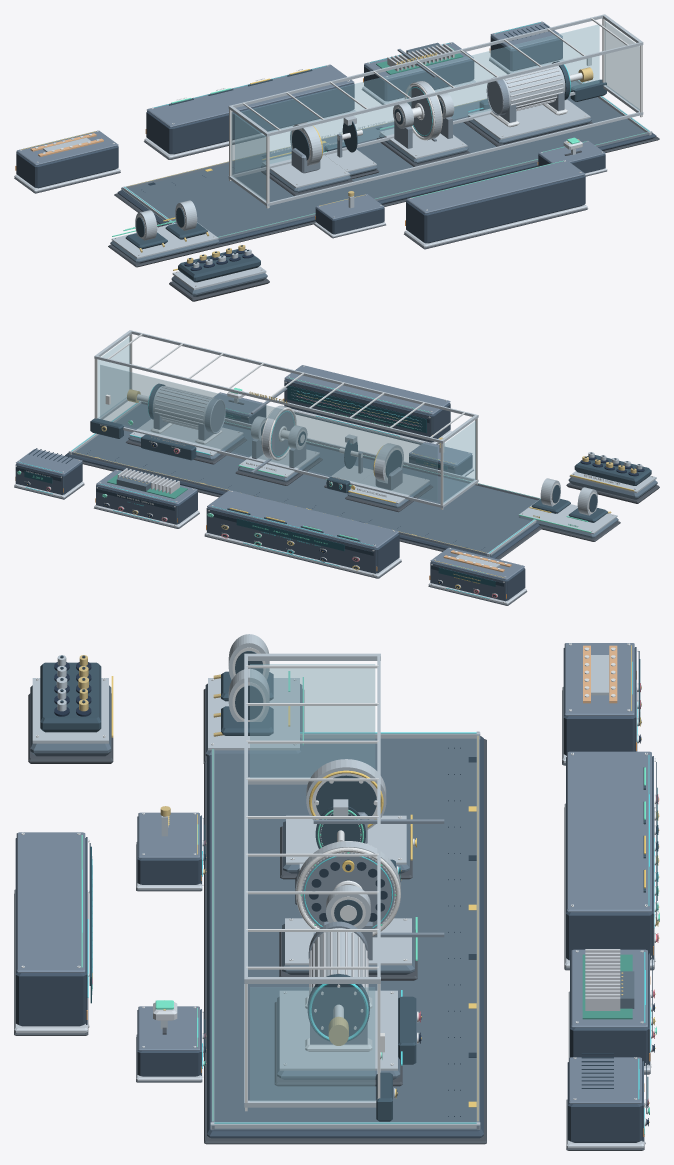
The model's file is Level51_Fitted_Assembly.fbx.
The picture shows the model from 3 angles, top to bottom: view 1: azimuth 30°, elevation 25°; view 2: azimuth 150°, elevation 25°; view 3: azimuth 270°, elevation 25°; orthographic projection. The views are drawn at different scales.
Visible parts, largest first — view 1: L51_Frame_Static__darksteel, L51_Guard_Door__glassblue, L51_Guard_Static__nickel, L51_Monitor_Static__graphite, L51_Controller_Static__graphite, L51_Guard_Static__glassblue, L51_Controller_Static__mid_steel, L51_Motor_Static__nickel, L51_Monitor_Static__mid_steel, L51_Shunt_Static__graphite, L51_Driver_Static__graphite, L51_Frame_Static__graphite (+39 smaller); view 2: L51_Guard_Door__glassblue, L51_Frame_Static__darksteel, L51_Guard_Static__nickel, L51_Controller_Static__mid_steel, L51_Guard_Static__glassblue, L51_Controller_Static__deep_steel, L51_Motor_Static__nickel, L51_Monitor_Static__mid_steel, L51_Monitor_Static__screenback, L51_Monitor_Static__deep_steel, L51_Frame_Static__gunmetal, L51_Driver_Static__deep_steel (+40 smaller); view 3: L51_Frame_Static__darksteel, L51_Guard_Static__glassblue, L51_Controller_Static__mid_steel, L51_Monitor_Static__mid_steel, L51_Motor_Static__nickel, L51_Guard_Static__nickel, L51_Frame_Static__graphite, L51_Guard_Static__chrome, L51_Frame_Static__rubber, L51_Monitor_Static__graphite, L51_Controller_Static__graphite, L51_Shunt_Static__mid_steel (+45 smaller).
Part boxes in pixels (left/top/right/bottom): L51_Frame_Static__darksteel: left=122, top=81, right=645, bottom=236; L51_Guard_Door__glassblue: left=235, top=25, right=599, bottom=172; L51_Guard_Static__nickel: left=228, top=14, right=643, bottom=206; L51_Monitor_Static__graphite: left=406, top=175, right=585, bottom=243; L51_Controller_Static__graphite: left=146, top=83, right=354, bottom=154; L51_Guard_Static__glassblue: left=231, top=21, right=639, bottom=200; L51_Controller_Static__mid_steel: left=147, top=64, right=354, bottom=127; L51_Motor_Static__nickel: left=467, top=65, right=590, bottom=139; L51_Monitor_Static__mid_steel: left=406, top=160, right=585, bottom=213; L51_Shunt_Static__graphite: left=16, top=146, right=118, bottom=188; L51_Driver_Static__graphite: left=364, top=59, right=474, bottom=101; L51_Frame_Static__graphite: left=117, top=133, right=656, bottom=249; L51_Guard_Door__glassblue: left=100, top=365, right=437, bottom=501; L51_Frame_Static__darksteel: left=75, top=403, right=537, bottom=556; L51_Guard_Static__nickel: left=94, top=330, right=478, bottom=507; L51_Controller_Static__mid_steel: left=207, top=490, right=398, bottom=575; L51_Guard_Static__glassblue: left=98, top=336, right=475, bottom=503; L51_Controller_Static__deep_steel: left=207, top=508, right=376, bottom=573; L51_Motor_Static__nickel: left=129, top=386, right=243, bottom=456; L51_Monitor_Static__mid_steel: left=284, top=365, right=450, bottom=414; L51_Monitor_Static__screenback: left=287, top=385, right=426, bottom=433; L51_Monitor_Static__deep_steel: left=284, top=380, right=431, bottom=442; L51_Frame_Static__gunmetal: left=68, top=401, right=540, bottom=556; L51_Driver_Static__deep_steel: left=96, top=486, right=177, bottom=524; L51_Frame_Static__darksteel: left=213, top=738, right=477, bottom=1130; L51_Guard_Static__glassblue: left=250, top=664, right=374, bottom=1101; L51_Controller_Static__mid_steel: left=567, top=751, right=651, bottom=912; L51_Monitor_Static__mid_steel: left=16, top=832, right=89, bottom=1026; L51_Motor_Static__nickel: left=279, top=928, right=397, bottom=1070; L51_Guard_Static__nickel: left=244, top=653, right=380, bottom=1107; L51_Frame_Static__graphite: left=207, top=736, right=483, bottom=1138; L51_Guard_Static__chrome: left=246, top=665, right=395, bottom=1098; L51_Frame_Static__rubber: left=204, top=739, right=486, bottom=1144; L51_Monitor_Static__graphite: left=15, top=838, right=85, bottom=1026; L51_Controller_Static__graphite: left=566, top=757, right=652, bottom=960; L51_Shunt_Static__mid_steel: left=564, top=643, right=634, bottom=715.
Bounding box in the file's own units: 184 × 31 × 109.
